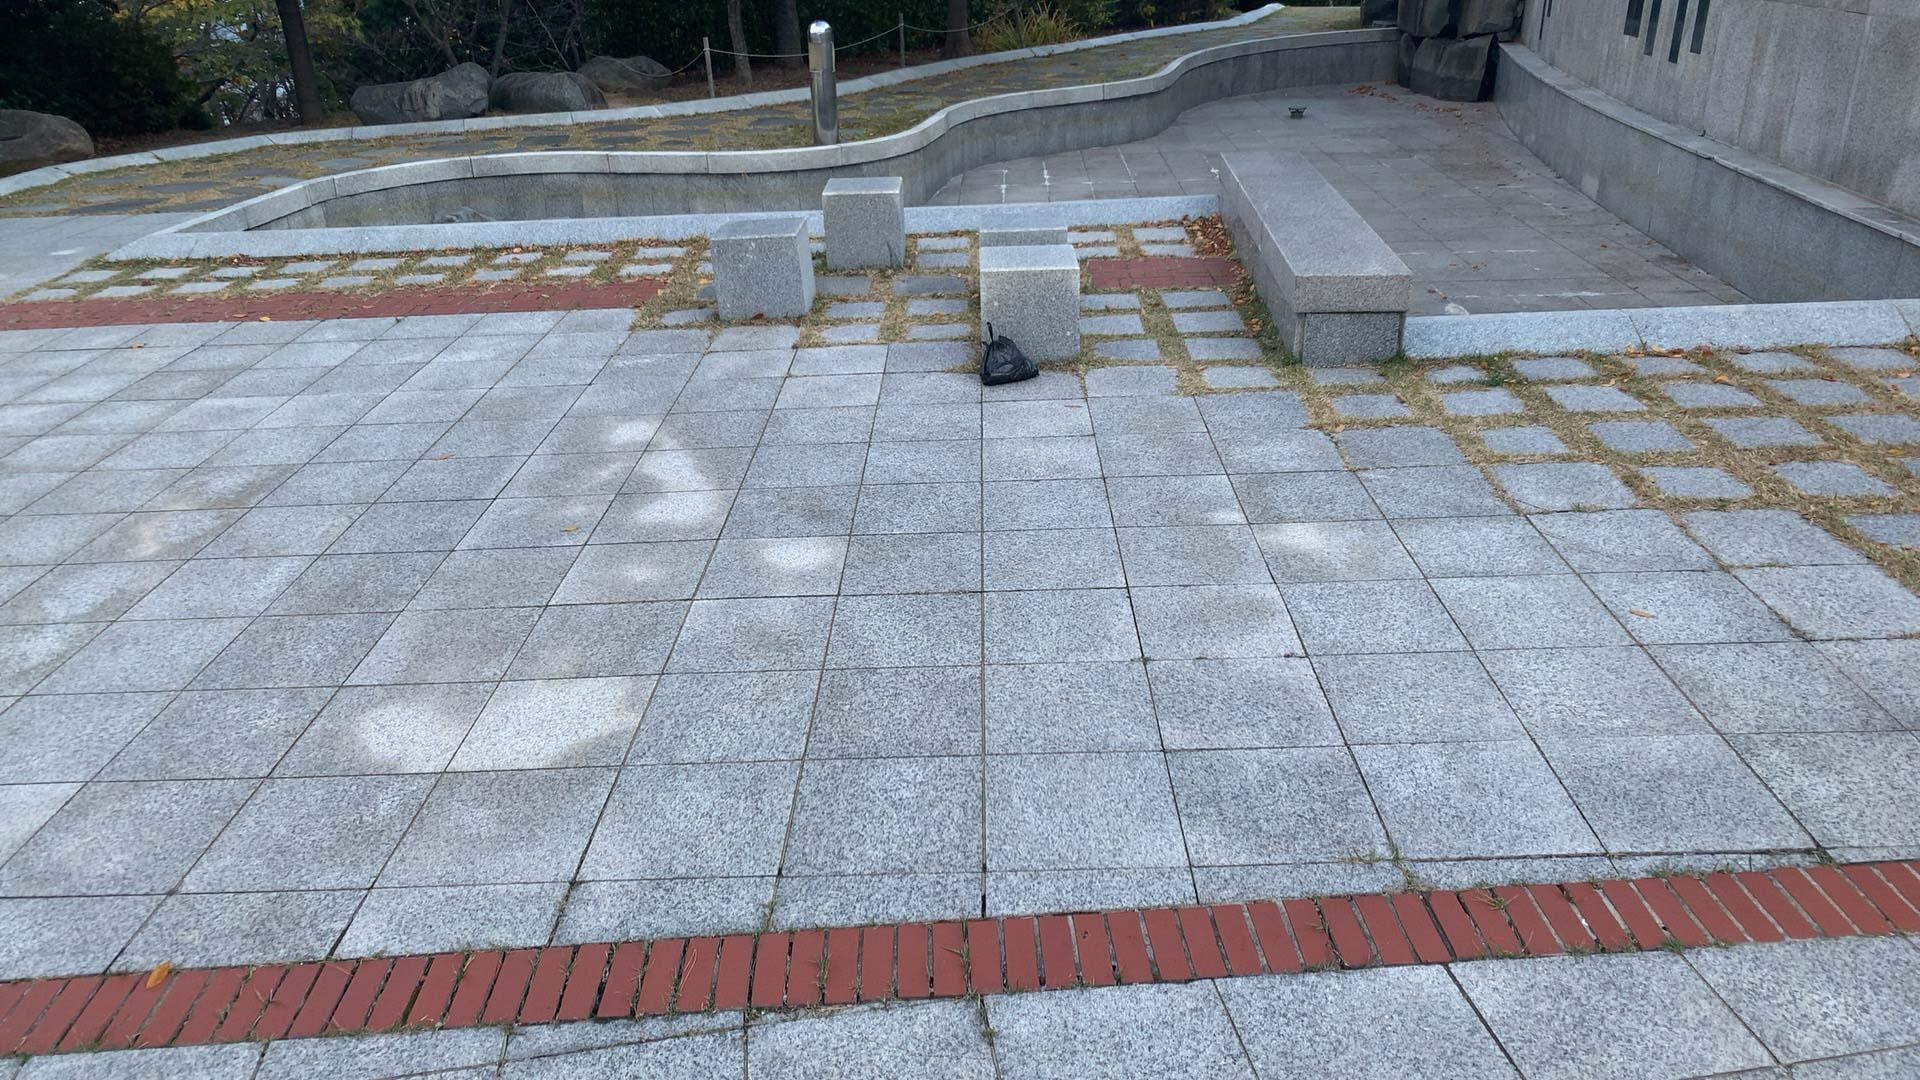black_bag: (972, 318, 1044, 386)
